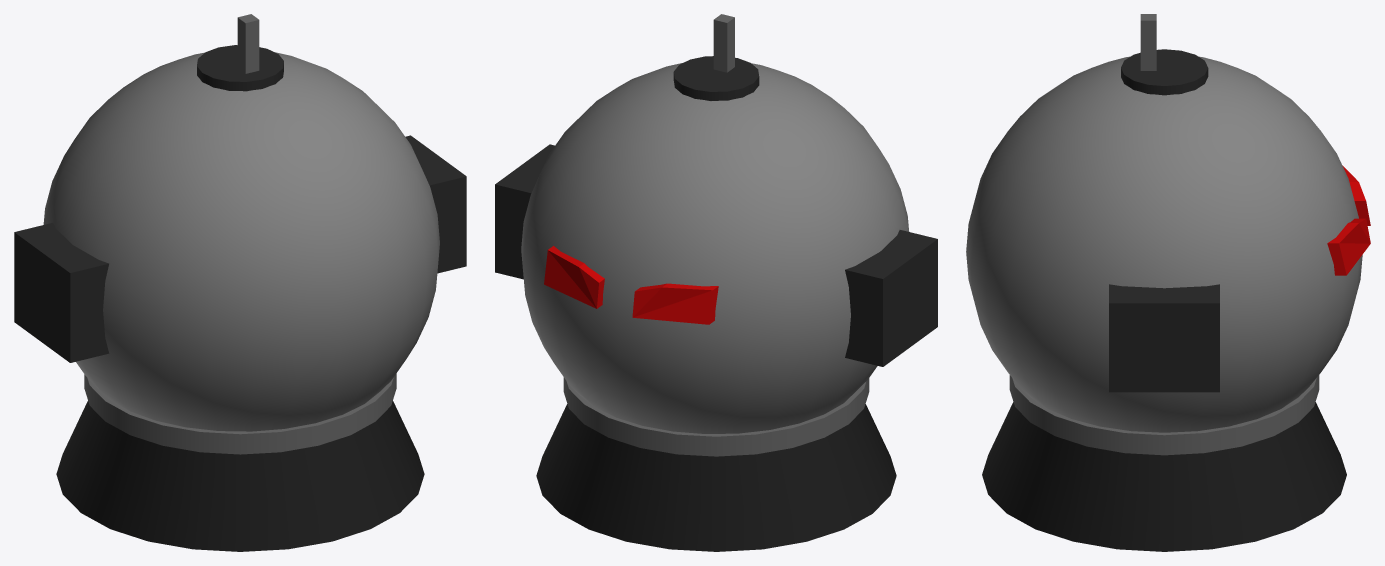
The model's file is boss_bastion.obj.
3 renders of one model, left to right at view 1: azimuth 30°, elevation 25°; view 2: azimuth 150°, elevation 25°; view 3: azimuth 270°, elevation 25°, orthographic. The views are drawn at different scales.
Parts seen in each view (by area): view 1: body, frame, band; view 2: body, frame, band, eye; view 3: body, frame, band, eye.
Boxes of the visible parts, bbox=[...] form: body: bbox=[43, 52, 439, 431]; frame: bbox=[14, 45, 466, 551]; band: bbox=[84, 14, 396, 454]; body: bbox=[521, 63, 909, 433]; frame: bbox=[495, 56, 937, 551]; band: bbox=[563, 14, 869, 456]; eye: bbox=[544, 246, 718, 324]; body: bbox=[966, 56, 1362, 432]; frame: bbox=[982, 49, 1346, 551]; band: bbox=[1009, 14, 1319, 455]; eye: bbox=[1327, 165, 1370, 275].
Bounding box in the file's own units: 2.86 × 3.18 × 2.55.
